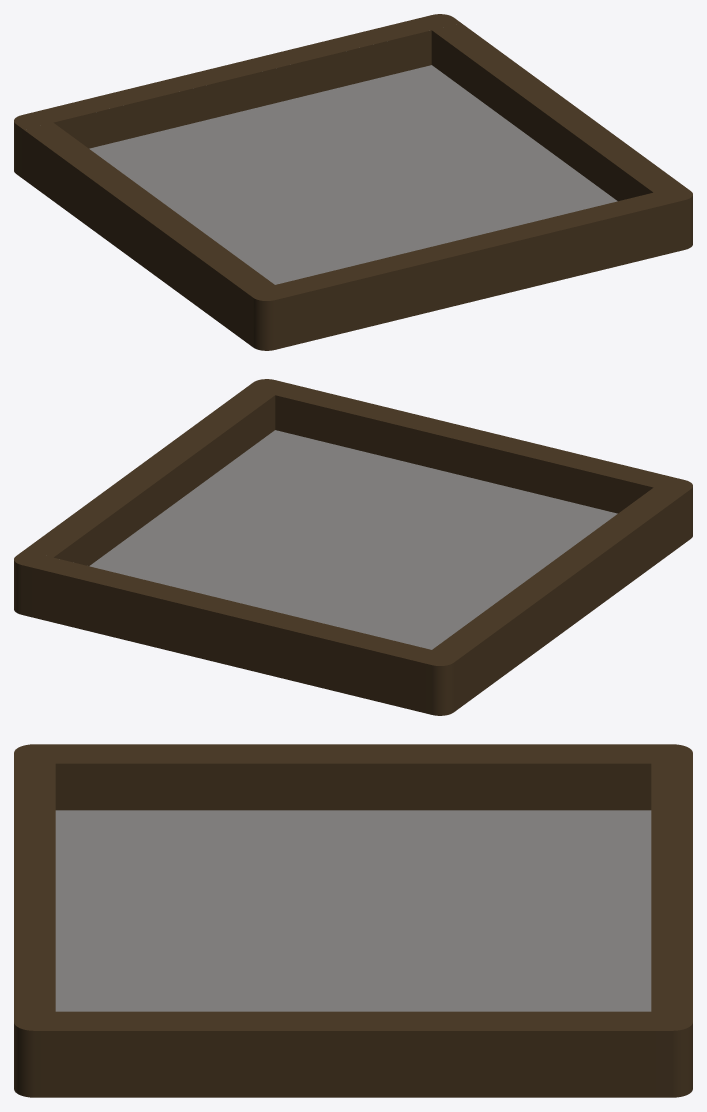
Rendered from Piso_Fuego.fbx.
3 views of the same model, one above another, from view 1: azimuth 30°, elevation 25°; view 2: azimuth 150°, elevation 25°; view 3: azimuth 270°, elevation 25° (orthographic). The views are drawn at different scales.
Parts seen in each view (by area): view 1: pCube109; view 2: pCube109; view 3: pCube109.
Boxes of the visible parts, x1,y1,x2,y2 form: pCube109: (14, 14, 692, 350); pCube109: (14, 379, 692, 715); pCube109: (14, 744, 692, 1097).
Size of the model in its own units: 27.5 by 2.99 by 27.53.
